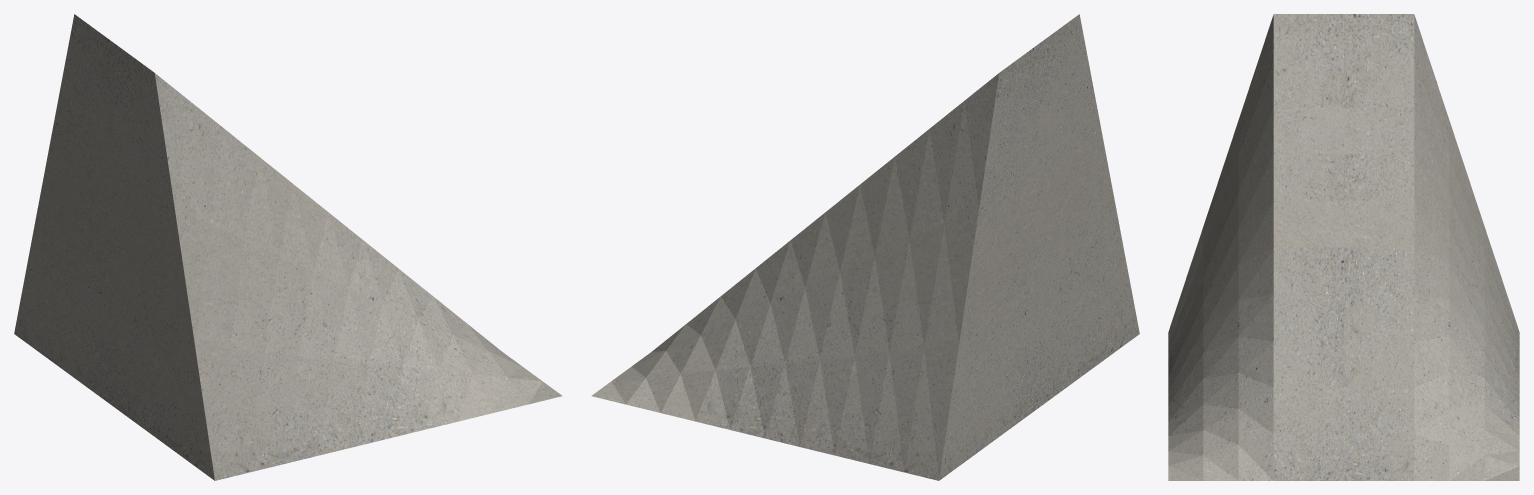
The model's file is env_levee_slope.glb.
The picture shows the model from 3 angles, left to right: view 1: azimuth 30°, elevation 25°; view 2: azimuth 150°, elevation 25°; view 3: azimuth 270°, elevation 25°; orthographic projection. The views are drawn at different scales.
Parts seen in each view (by area): view 1: env_levee_slope; view 2: env_levee_slope; view 3: env_levee_slope.
Boxes of the visible parts, x1,y1,x2,y2 form: env_levee_slope: [14, 14, 562, 480]; env_levee_slope: [591, 14, 1139, 480]; env_levee_slope: [1168, 14, 1519, 480].
Bounding box in the file's own units: 2 × 2 × 2.
1 material, 1 textured.
